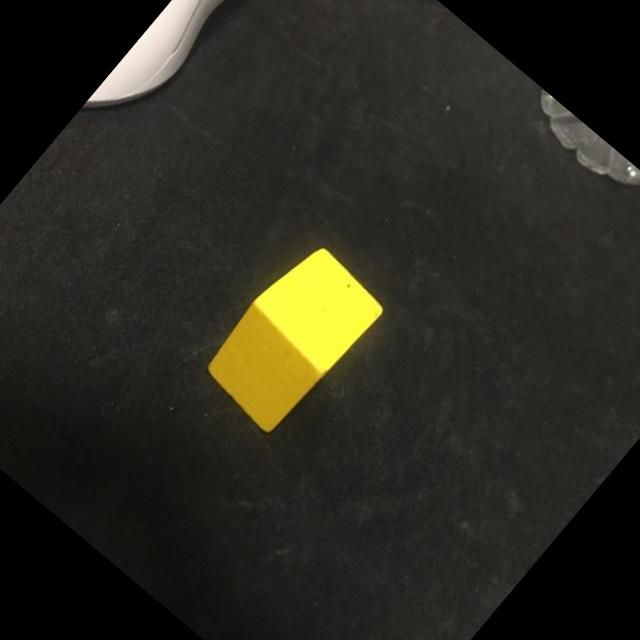yellow: (193, 235, 391, 442)
